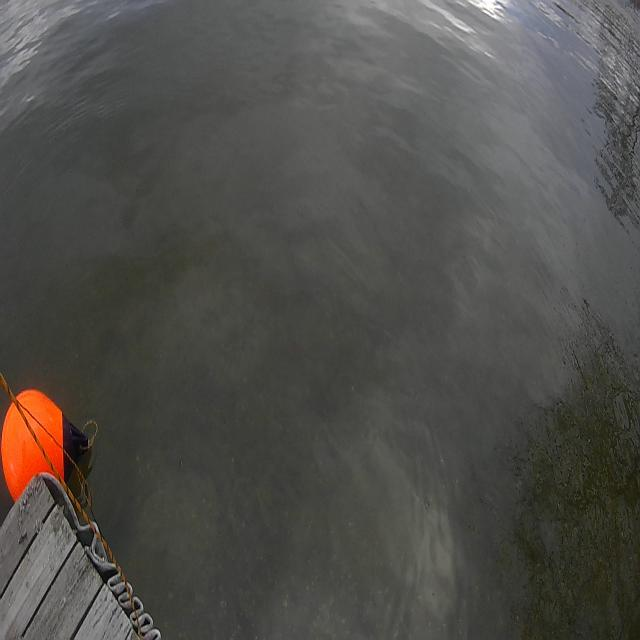Buoy: (1, 388, 66, 506)
